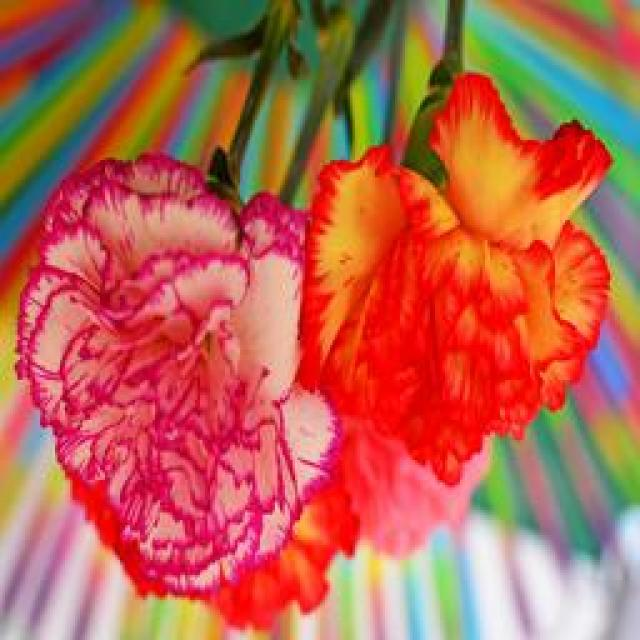carnation: (7, 155, 350, 590)
